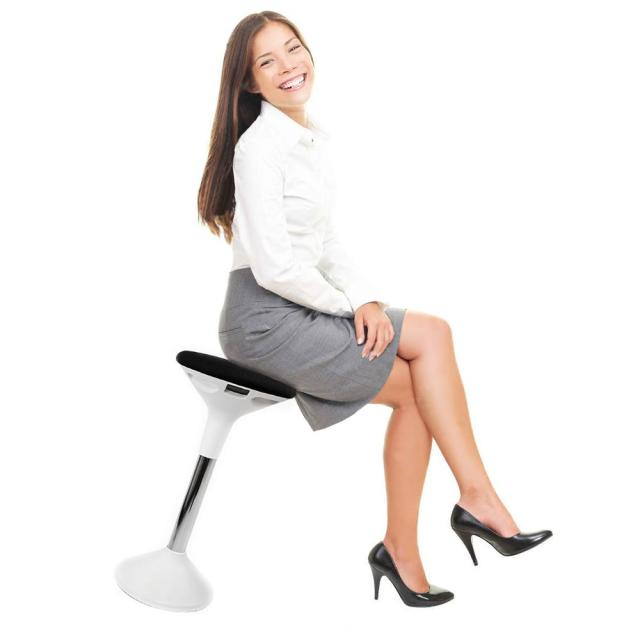nonfall: (198, 0, 564, 608)
